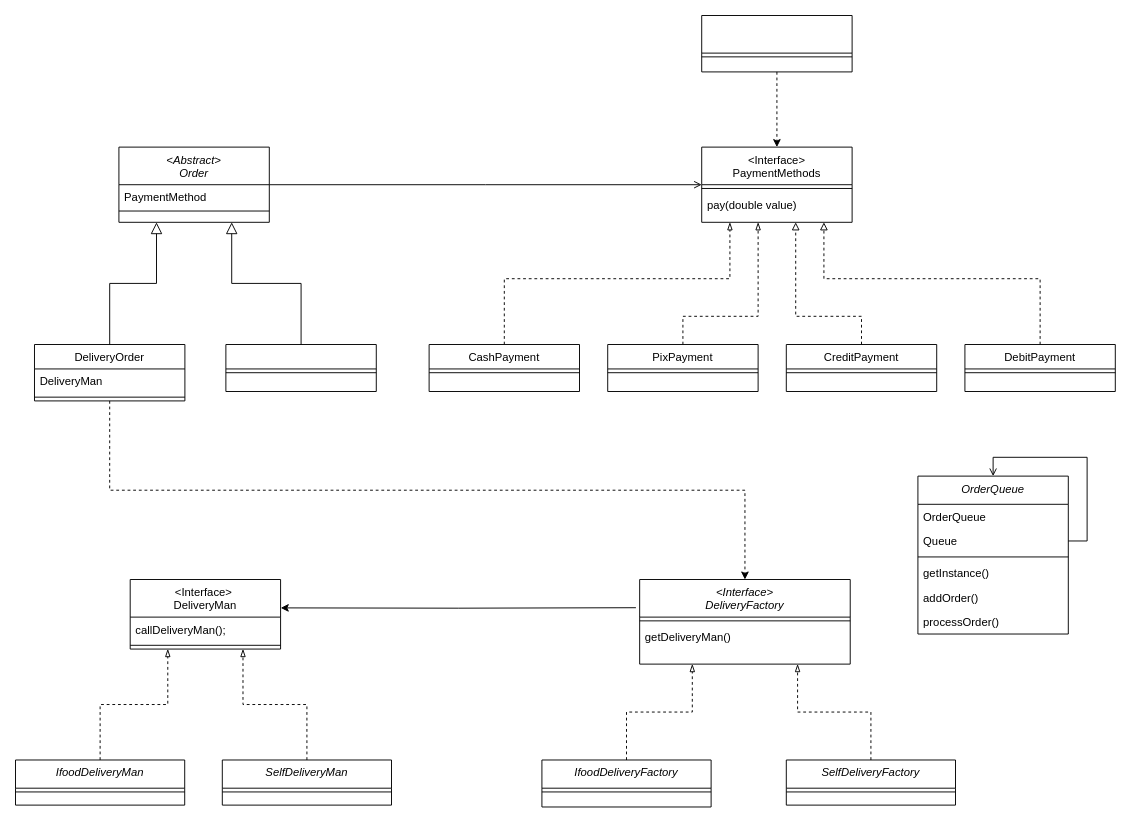
This 1131x823 diagram has some shape labels left out. The shapes that lost their labels are listed below. From the top down, each one's centre as x and y in pixels, then its label:
At [776,43]: "PaymentMethodFactory".
At [300,368]: "StoreOrder".
